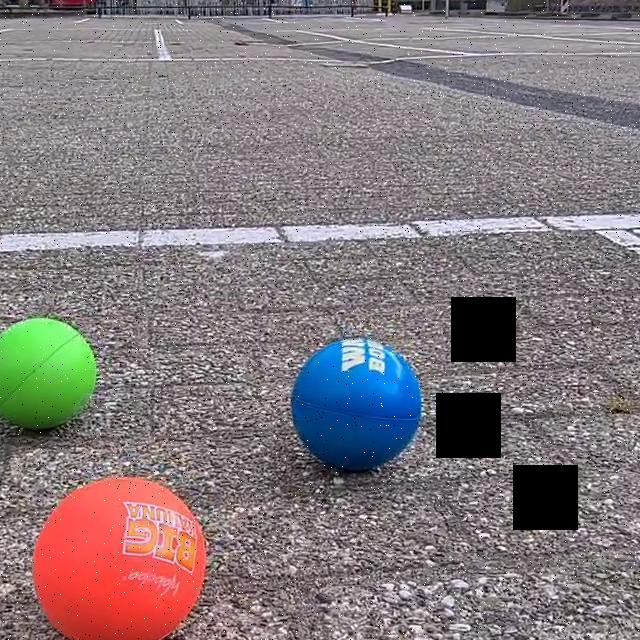ball: (286, 333, 424, 475), (0, 314, 101, 434)
